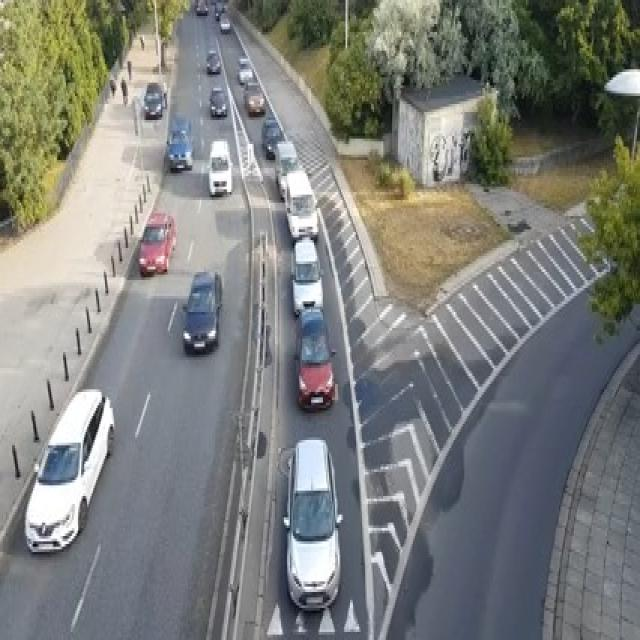car: (24, 387, 114, 552), (282, 437, 342, 611), (293, 306, 335, 411), (182, 269, 222, 352), (290, 234, 323, 314), (284, 168, 318, 243), (138, 210, 176, 274), (273, 139, 299, 200), (208, 138, 232, 194), (165, 128, 194, 171), (260, 115, 282, 157), (242, 80, 264, 115), (143, 80, 162, 117), (209, 86, 227, 118), (236, 56, 252, 83), (206, 48, 221, 72), (219, 11, 230, 32), (159, 80, 167, 107), (213, 0, 224, 19), (195, 0, 207, 13)
